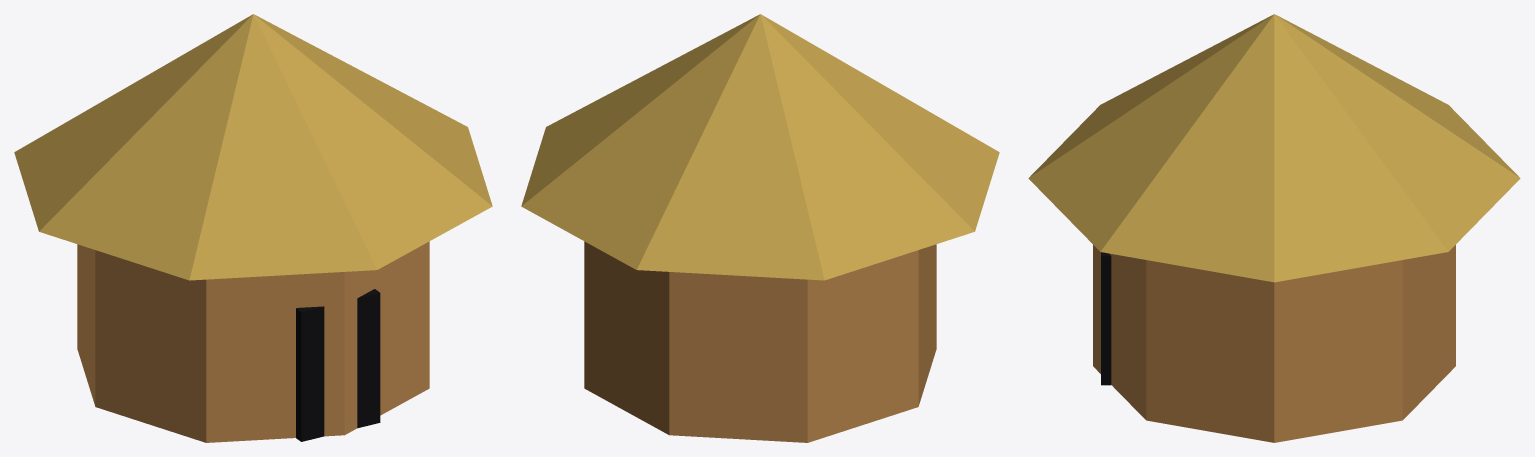
File: thatch_hut.glb
The picture shows the model from 3 angles, left to right: view 1: azimuth 30°, elevation 25°; view 2: azimuth 150°, elevation 25°; view 3: azimuth 270°, elevation 25°; orthographic projection.
Visible parts, largest first — view 1: thatch_hut; view 2: thatch_hut; view 3: thatch_hut.
Boxes of the visible parts, x1,y1,x2,y2 form: thatch_hut: [14, 14, 492, 442]; thatch_hut: [521, 14, 999, 442]; thatch_hut: [1028, 14, 1520, 442].
Bounding box in the file's own units: 3.8 × 3 × 3.8.
